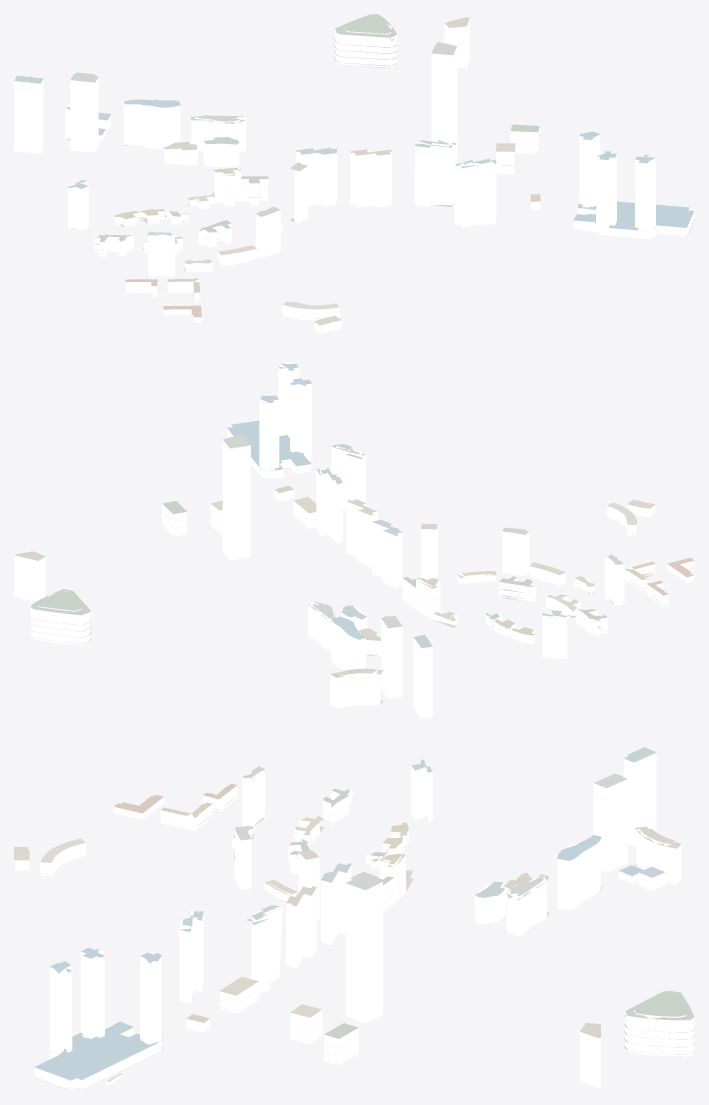
File: buildings--5_1-coarse.glb
3 views of the same model, one above another, from view 1: azimuth 30°, elevation 25°; view 2: azimuth 150°, elevation 25°; view 3: azimuth 270°, elevation 25° (orthographic). The views are drawn at different scales.
Visible parts, largest first — view 1: block_-5_1_office, block_-5_1_residential, block_-5_1_roof; view 2: block_-5_1_office, block_-5_1_roof, block_-5_1_residential; view 3: block_-5_1_office, block_-5_1_roof, block_-5_1_residential.
Part boxes in pixels (x1=…): block_-5_1_office: x1=14, y1=19, x2=694, y2=276; block_-5_1_residential: x1=94, y1=24, x2=540, y2=333; block_-5_1_roof: x1=14, y1=14, x2=694, y2=329; block_-5_1_office: x1=14, y1=362, x2=624, y2=718; block_-5_1_roof: x1=14, y1=363, x2=694, y2=707; block_-5_1_residential: x1=30, y1=489, x2=694, y2=645; block_-5_1_office: x1=34, y1=753, x2=681, y2=1090; block_-5_1_roof: x1=14, y1=747, x2=694, y2=1090; block_-5_1_residential: x1=14, y1=785, x2=694, y2=1085.
Bounding box in the file's own units: 688 × 153 × 673.
